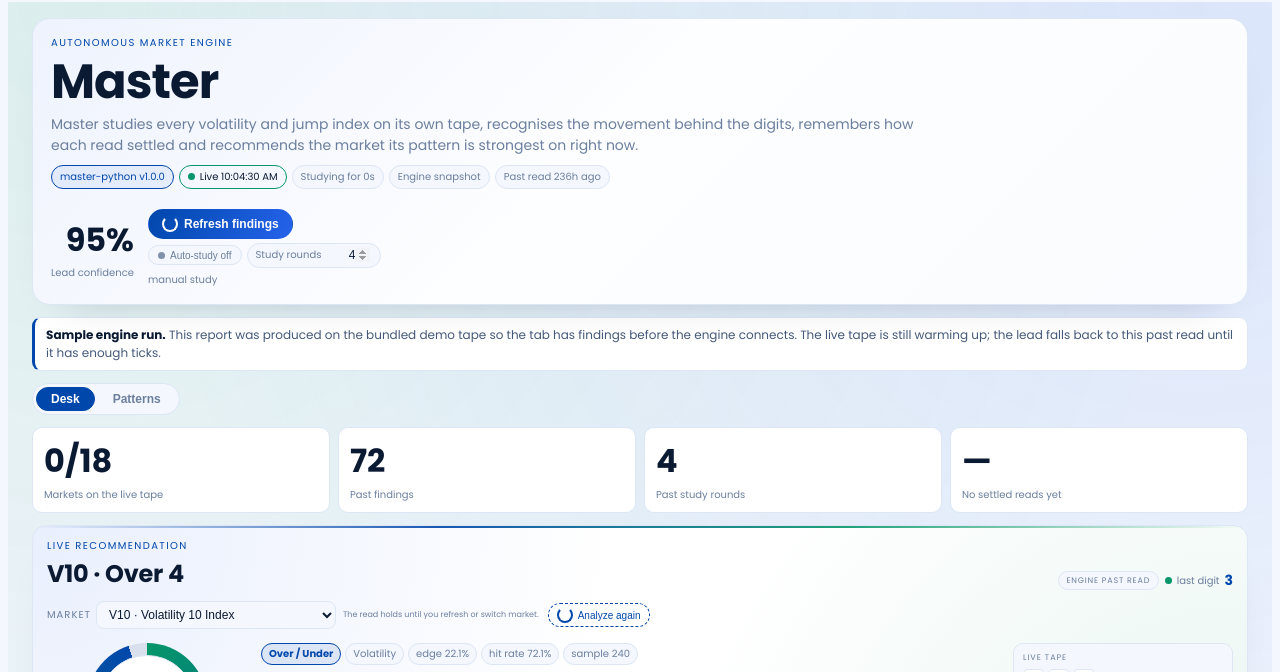
Test case: the Master tab › leads with the engine recommendation, then the hitmap and movement read
Expected: the heading "Master" is shown, [51, 48, 218, 115]
Expected: the text "Live recommendation" is shown, [47, 538, 188, 553]
What coordinates should you click on to do the following:
click the tab "Patterns"
I would click on:
 (137, 399)
Its box is [98, 387, 176, 411].
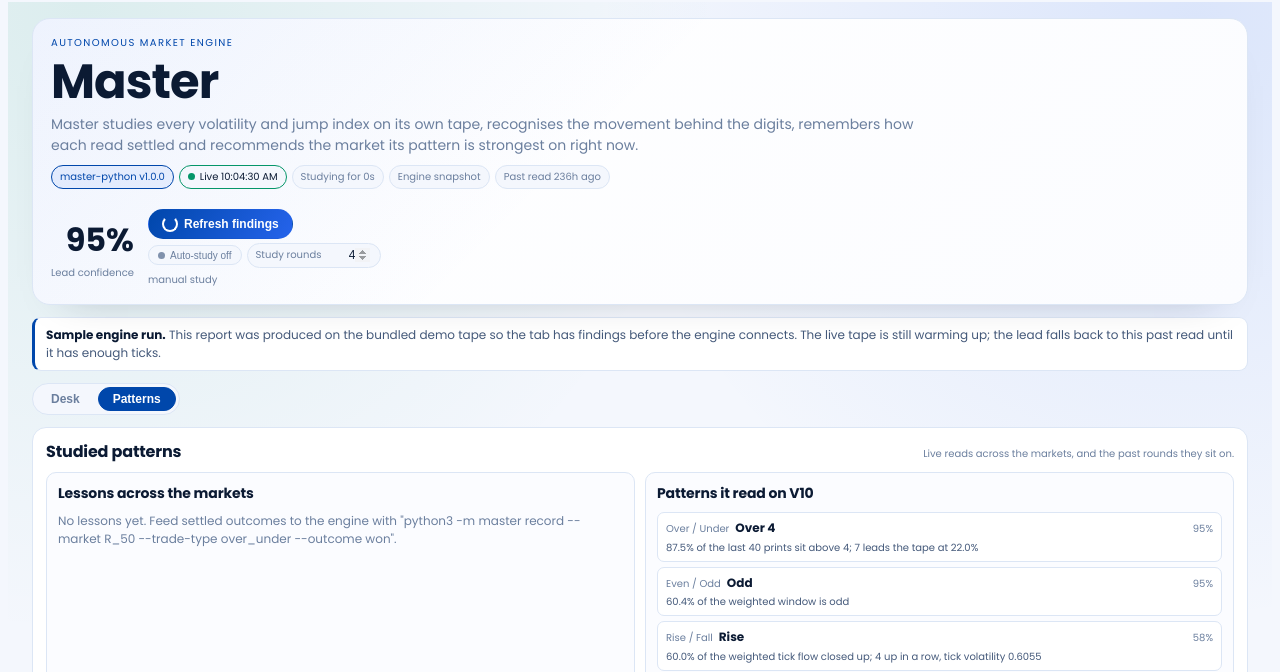
Expected: the heading "Studied patterns" is shown, [46, 439, 181, 464]
What coordinates should you click on to do the following:
click the tab "Desk"
I would click on:
 (65, 399)
Its box is [36, 387, 95, 411].
(page scrolled)
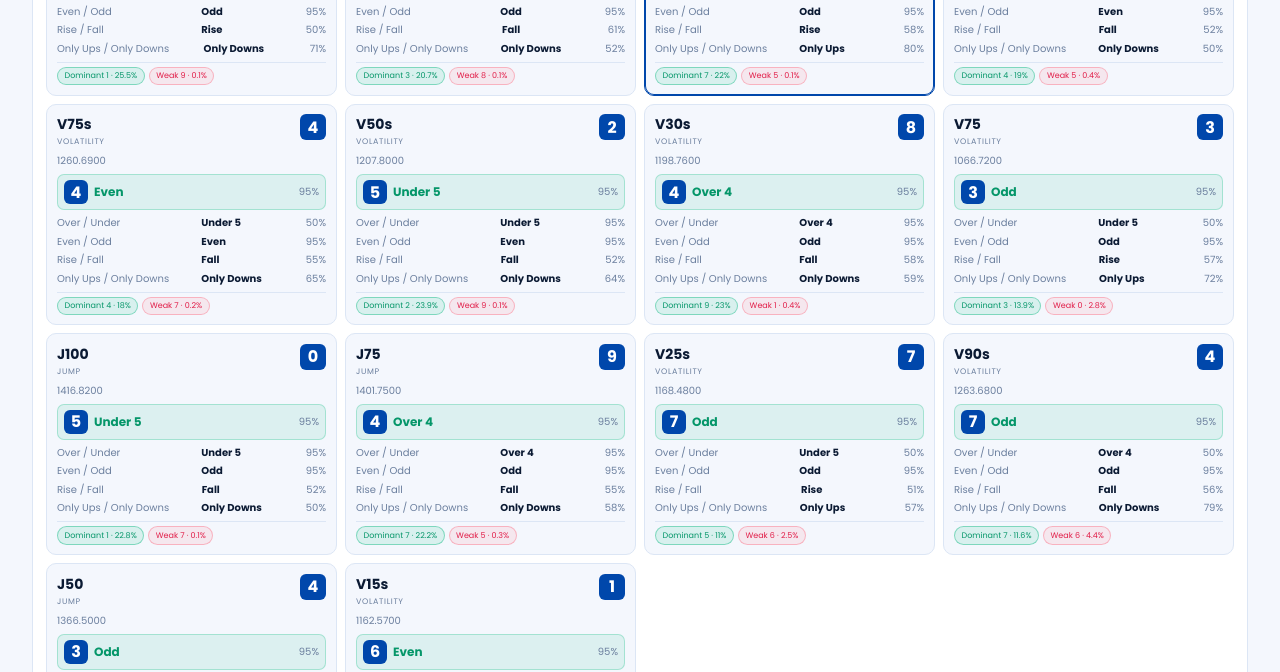
Expected: the text "J100" is shown, [57, 344, 89, 365]
